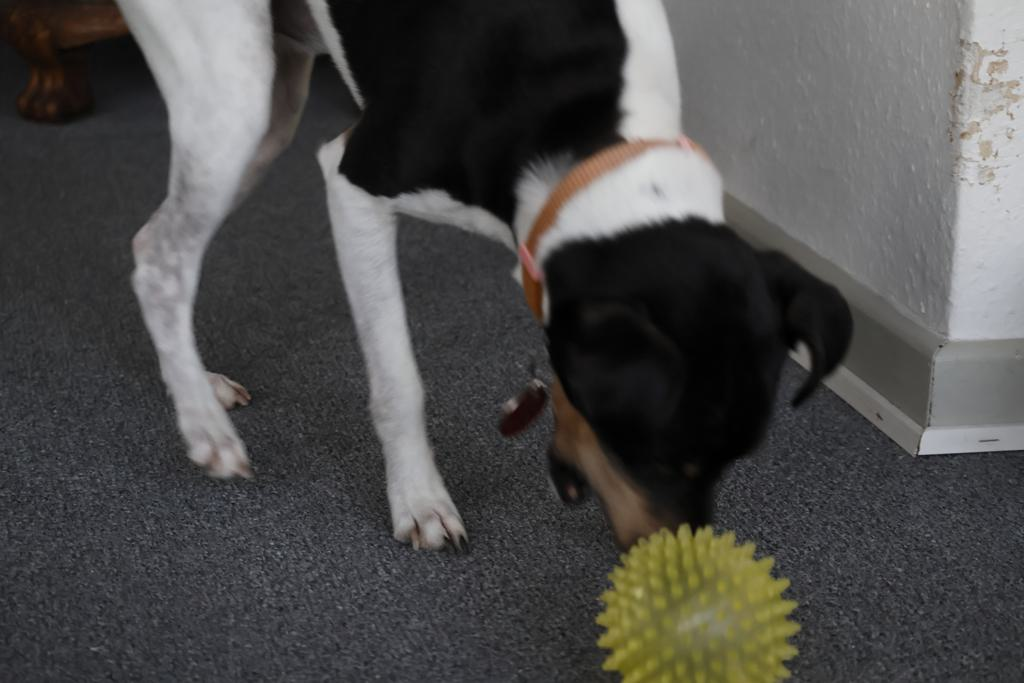Dog: (102, 0, 862, 581)
